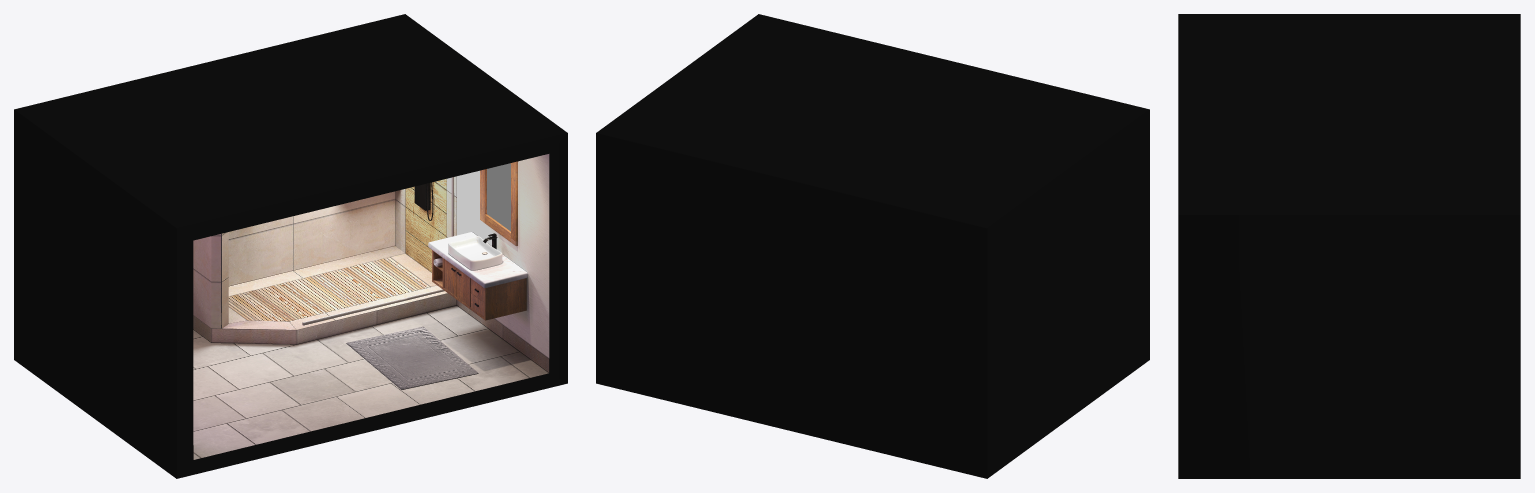
3 renders of one model, left to right at view 1: azimuth 30°, elevation 25°; view 2: azimuth 150°, elevation 25°; view 3: azimuth 270°, elevation 25°, orthographic. The views are drawn at different scales.
Parts seen in each view (by area): view 1: black-material, x_combined-material, mirroir-material; view 2: black-material; view 3: black-material.
Part boxes in pixels (x1,y1,x2,y2): black-material: (14,14,567,478); x_combined-material: (193,154,549,459); mirroir-material: (487,163,510,230); black-material: (596,14,1149,478); black-material: (1178,14,1520,478).
Size of what is drawn, in the model's own units: 35.15 by 21.52 by 25.31.
5 materials, 2 textured.
